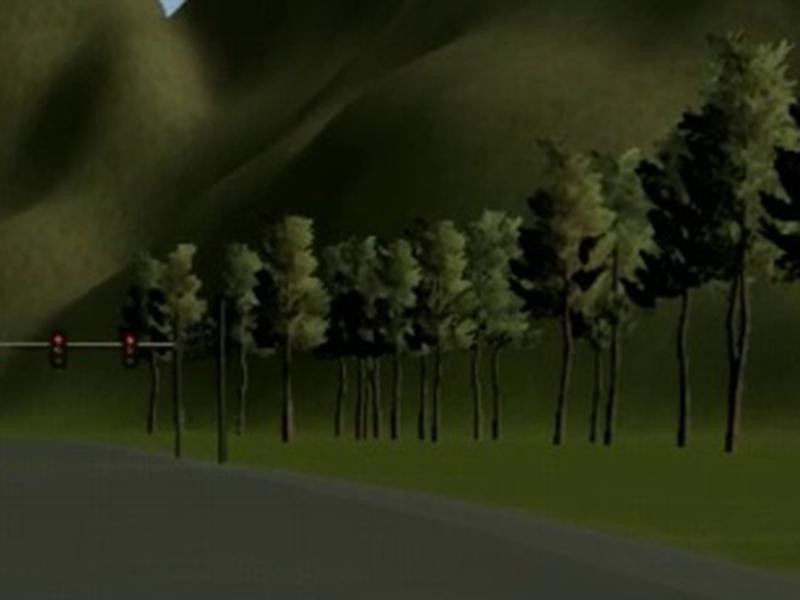Red: (51, 330, 70, 372), (121, 329, 139, 370)
